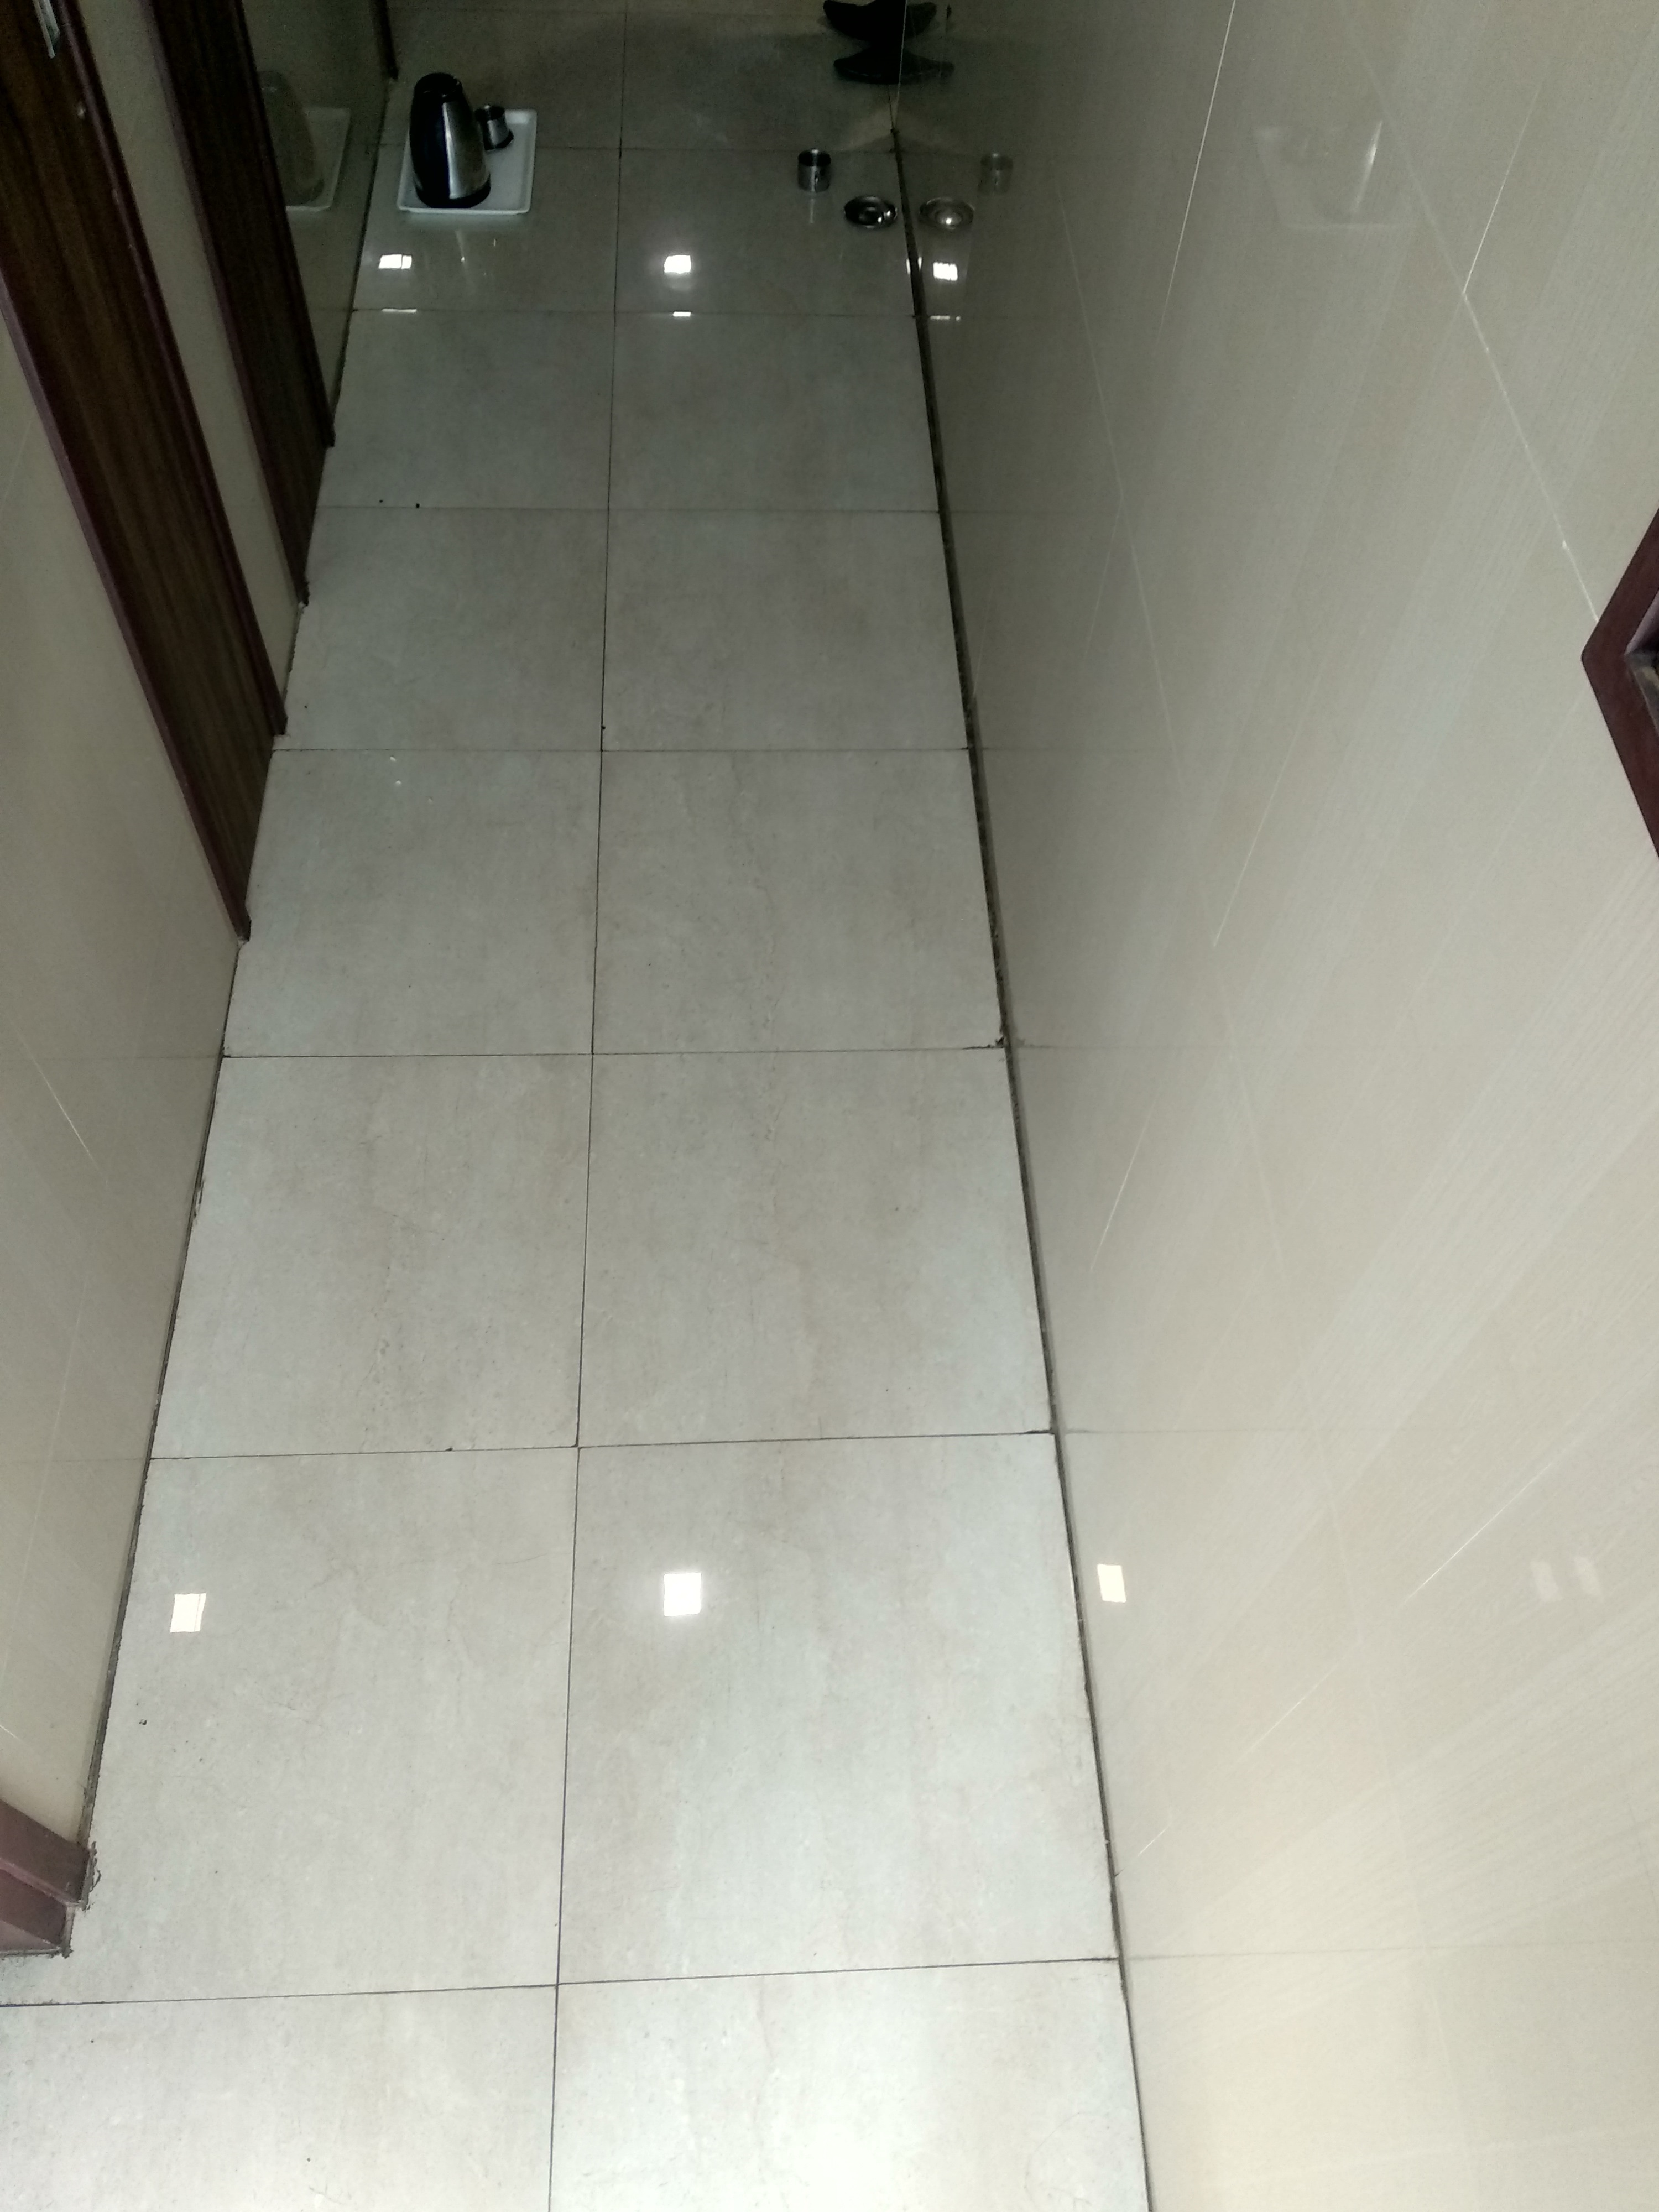CUP: (477, 108, 514, 152), (800, 150, 833, 197)
FLASK: (404, 84, 484, 206)
